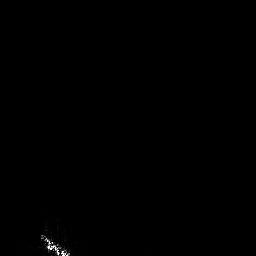ship: (37, 227, 71, 256)
